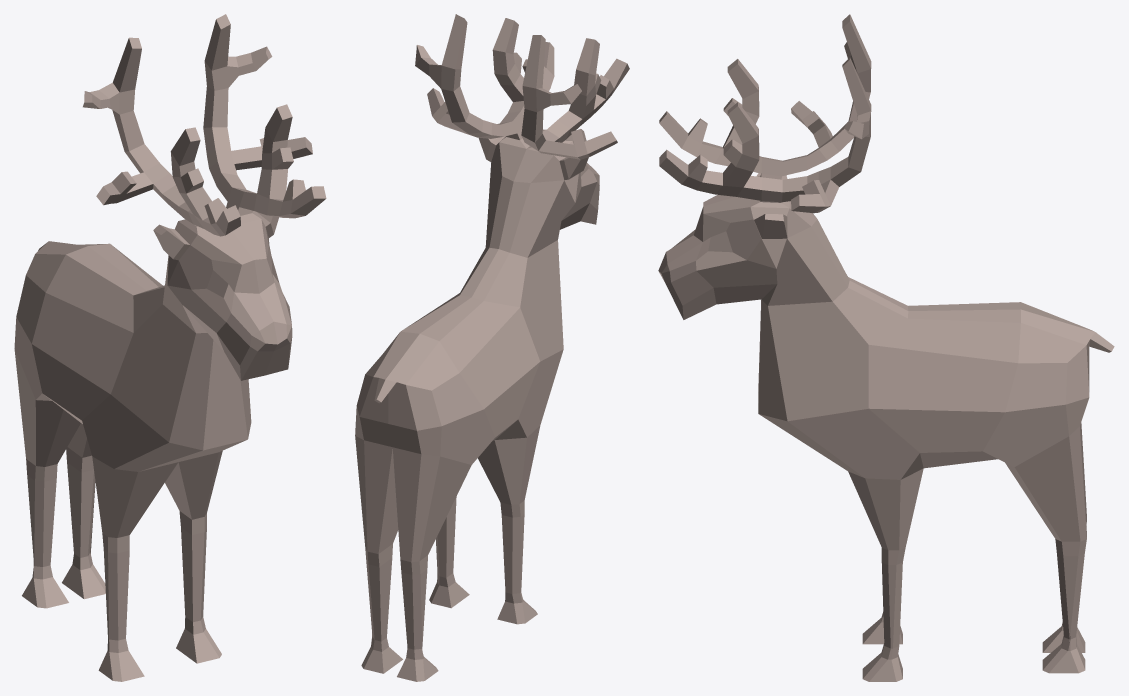
The model's file is deer.glb.
The picture shows the model from 3 angles, left to right: view 1: azimuth 30°, elevation 25°; view 2: azimuth 150°, elevation 25°; view 3: azimuth 270°, elevation 25°; orthographic projection. The views are drawn at different scales.
Visible parts, largest first — view 1: Deer; view 2: Deer; view 3: Deer.
Part boxes in pixels (box(x1,y1,x2,y2)): Deer: box(14, 14, 326, 681); Deer: box(355, 14, 629, 681); Deer: box(658, 14, 1114, 681).
Bounding box in the file's own units: 0.6833 × 1.97 × 1.31.
